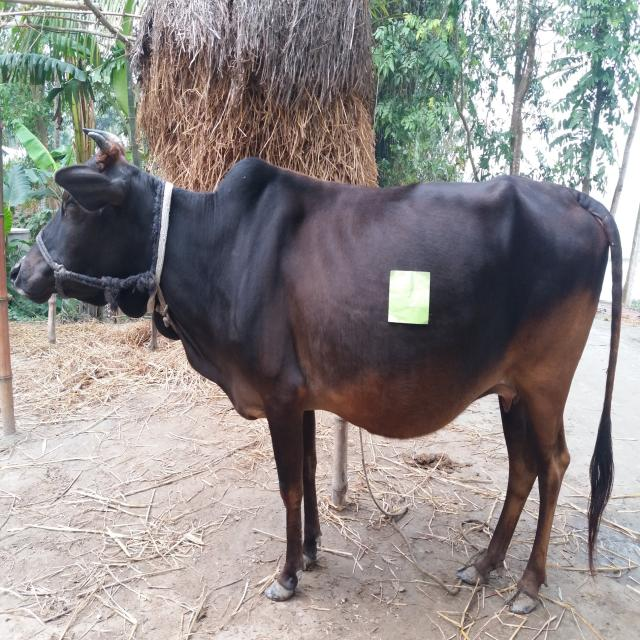badan_sapi: (257, 184, 586, 424)
sapi: (13, 128, 630, 616)
